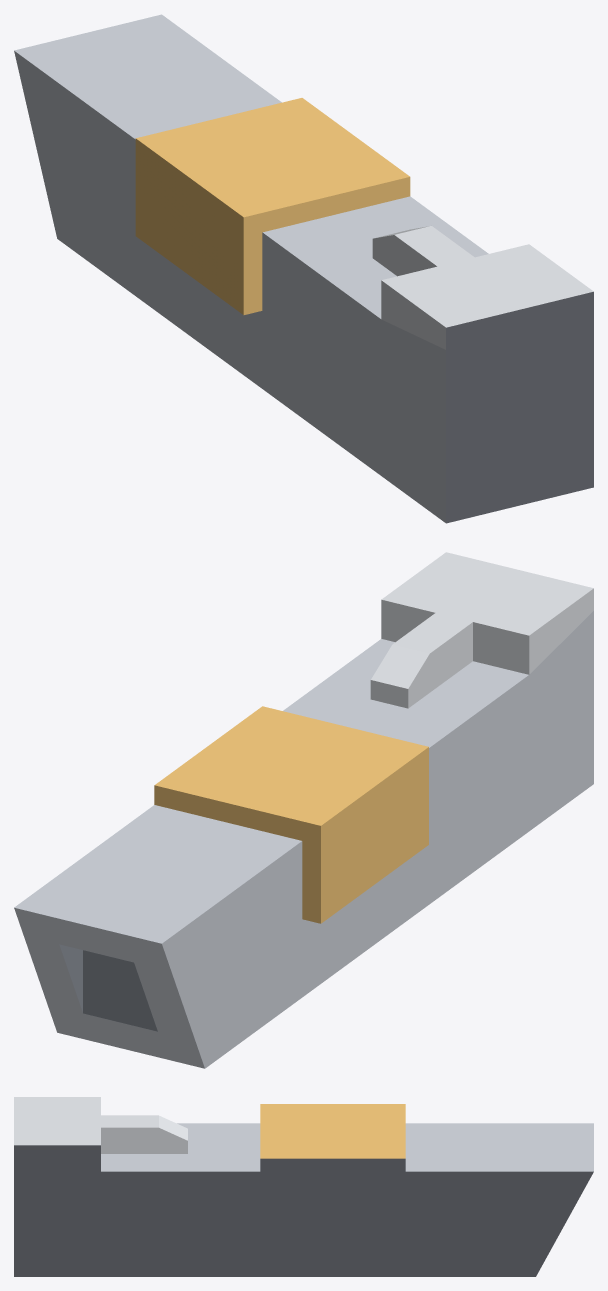
The model's file is pod_port.glb.
3 views of the same model, one above another, from view 1: azimuth 30°, elevation 25°; view 2: azimuth 150°, elevation 25°; view 3: azimuth 270°, elevation 25° (orthographic). The views are drawn at different scales.
Bounding box in the file's own units: 0.89 × 1 × 4.
